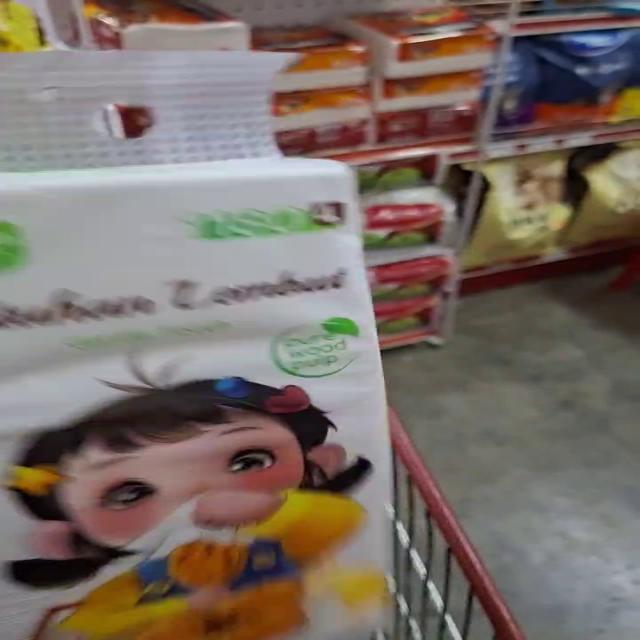Tisu: (12, 48, 394, 471), (0, 421, 418, 640)
